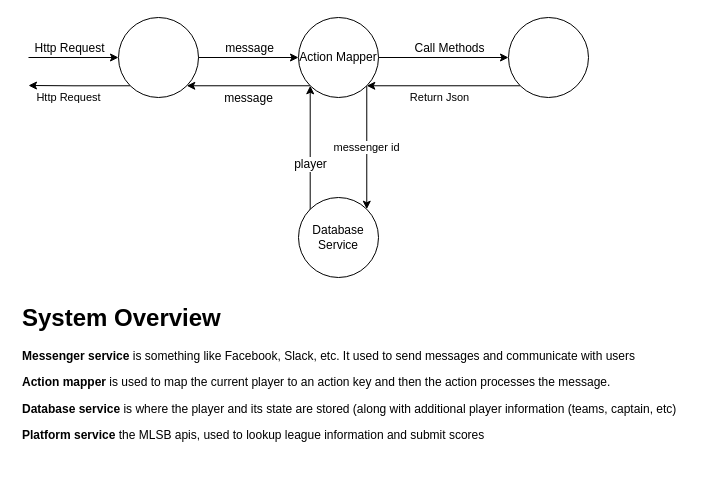
The diagram is 724 pixels wide and 496 high, and some of its shapes have lost their labels. Each missing label, with the centre of its shape:
Messenger Service: point 158,57
Platform Service: point 548,57
